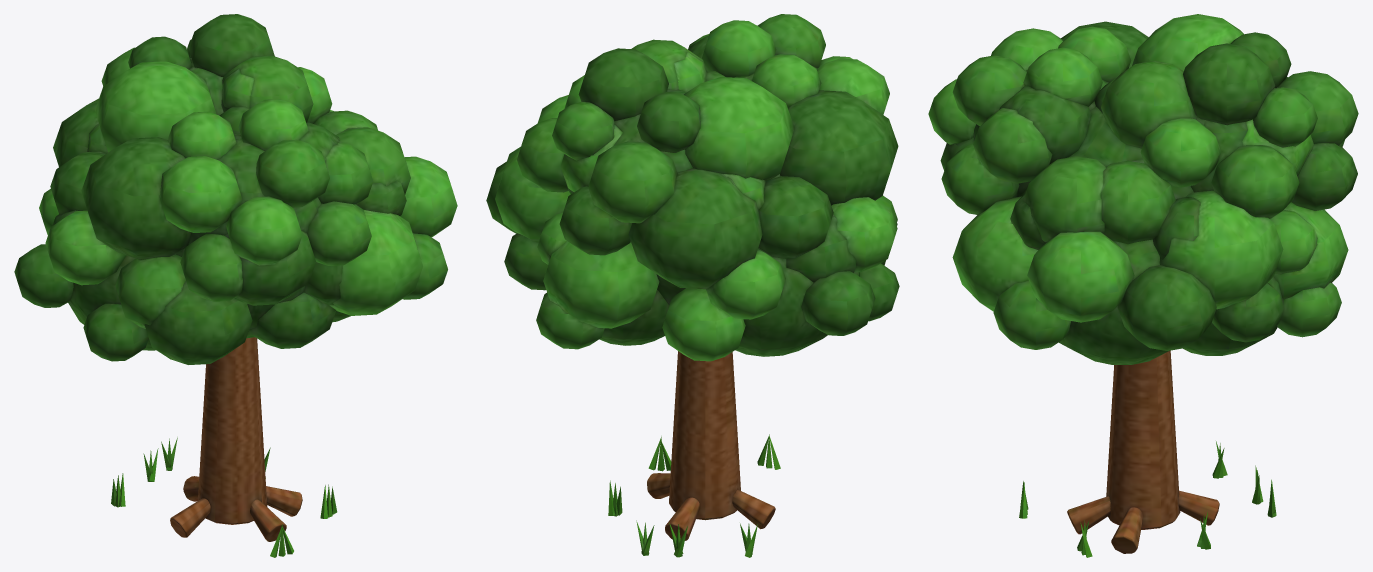
Rendered from cherimoya_tree.glb.
The picture shows the model from 3 angles, left to right: view 1: azimuth 30°, elevation 25°; view 2: azimuth 150°, elevation 25°; view 3: azimuth 270°, elevation 25°; orthographic projection. The views are drawn at different scales.
Visible parts, largest first — view 1: crown, cherimoya_tree; view 2: crown, cherimoya_tree; view 3: crown, cherimoya_tree.
Part boxes in pixels (x1,y1,x2,y2): crown: (14,14,457,364); cherimoya_tree: (111,337,337,557); crown: (486,14,899,361); cherimoya_tree: (608,351,780,557); crown: (928,14,1358,364); cherimoya_tree: (1019,350,1276,557).
Size of the model in its own units: 1.13 by 1.31 by 1.03.
1 material, 1 textured.
